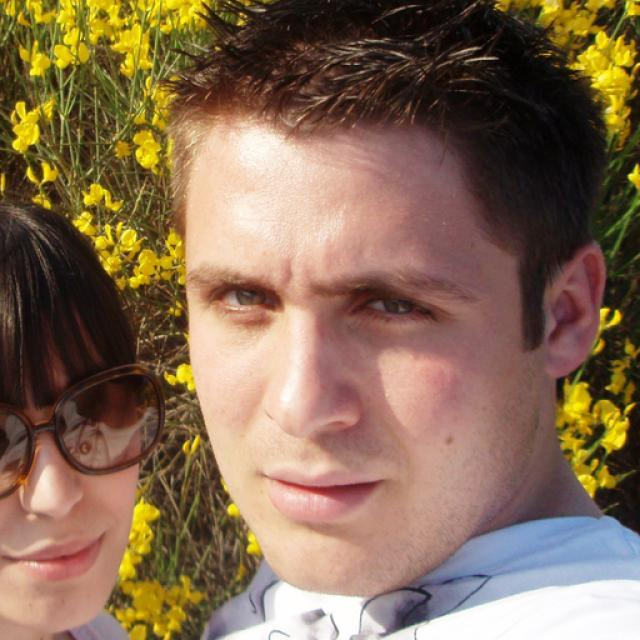happy: (187, 122, 544, 592), (0, 304, 146, 635)
